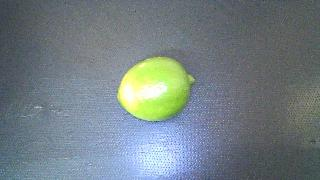EXPORTACION: (117, 57, 195, 121)
